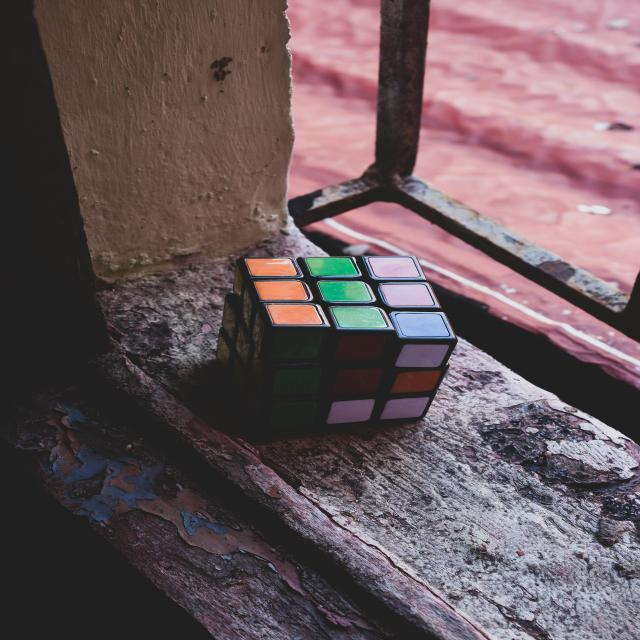Cubo-No-resuelto: (210, 251, 459, 431)
